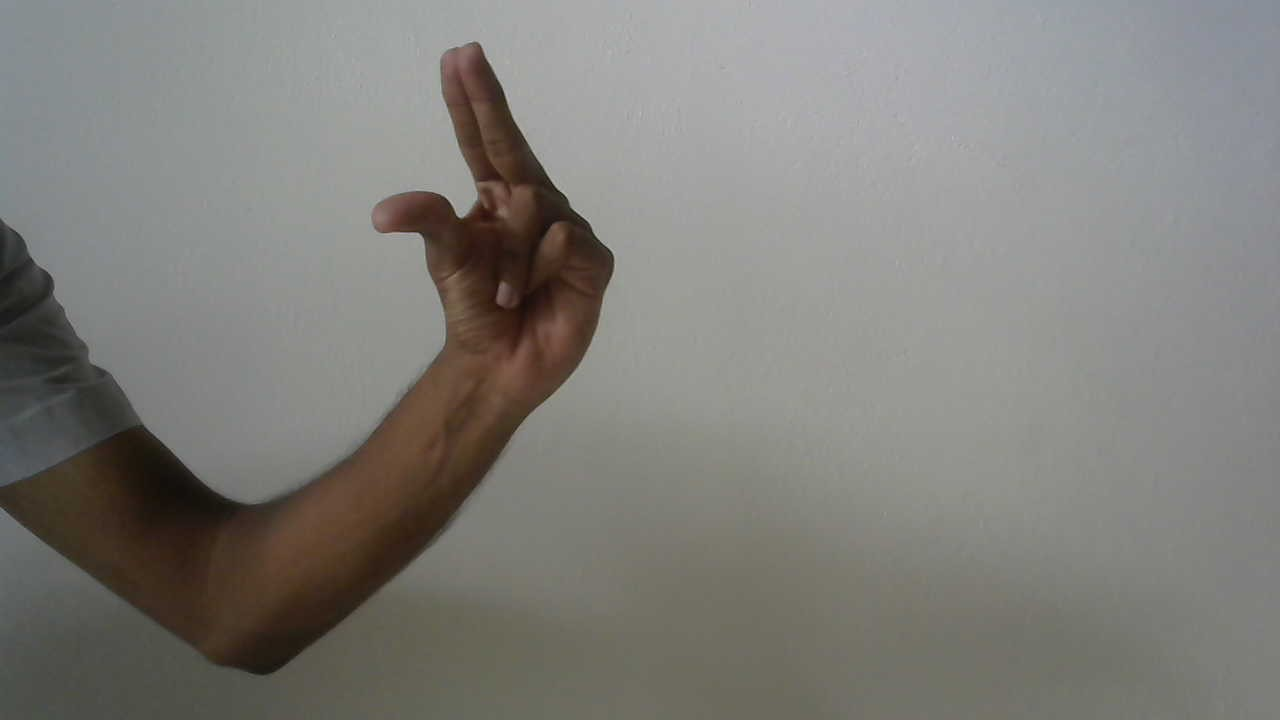no: (359, 32, 637, 428)
